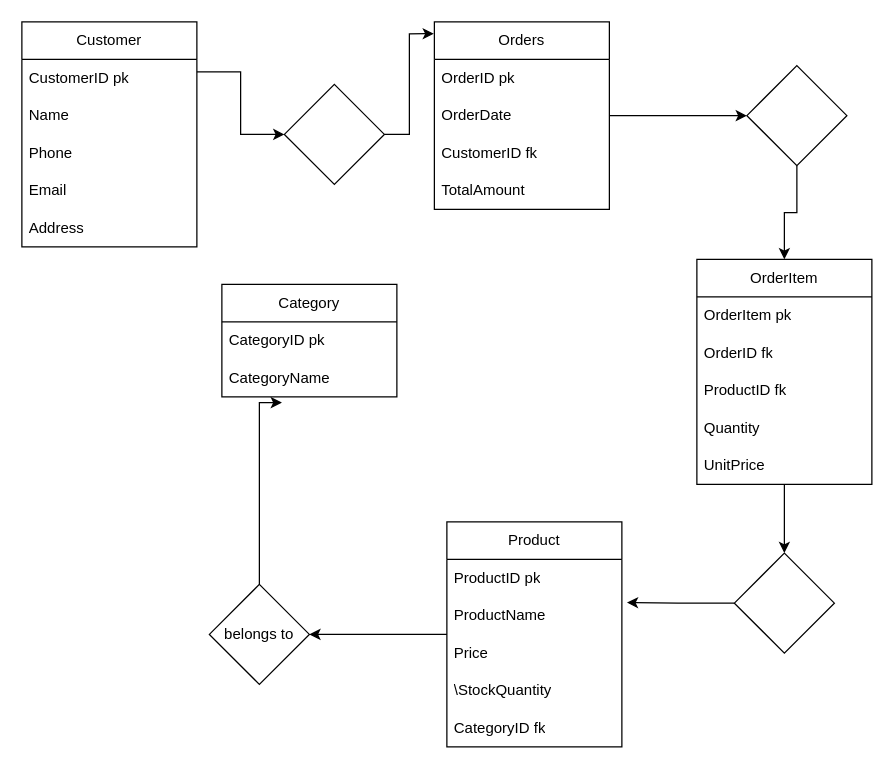
Some shapes in this 894 by 769 pixel diagram are drawn without their labels. Here are the shapes that lost their labels. From the top down, the centre of each, then its label:
At pixel 333 133: "PLACES".
At pixel 796 115: "contains".
At pixel 783 602: "Refers to".
